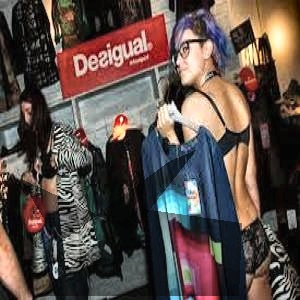desigual: (85, 37, 234, 60)
